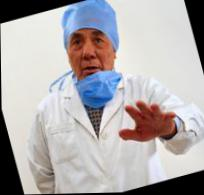WRONG: (59, 20, 122, 92)
